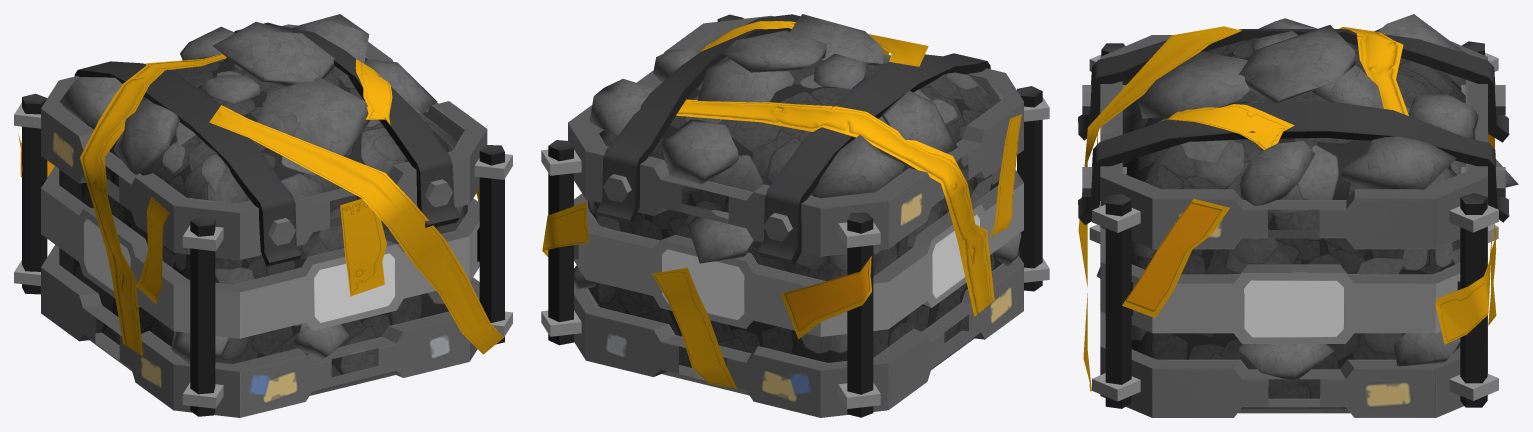
File: obj_containers_stonecrate.fbx
The picture shows the model from 3 angles, left to right: view 1: azimuth 30°, elevation 25°; view 2: azimuth 150°, elevation 25°; view 3: azimuth 270°, elevation 25°; orthographic projection. The views are drawn at different scales.
Visible parts, largest first — view 1: obj_containers_stonecrate; view 2: obj_containers_stonecrate; view 3: obj_containers_stonecrate.
Boxes of the visible parts, x1,y1,x2,y2 form: obj_containers_stonecrate: (14,14,512,417); obj_containers_stonecrate: (541,14,1049,417); obj_containers_stonecrate: (1078,14,1518,417).
Bounding box in the file's own units: 7.62 × 6.58 × 7.95.
